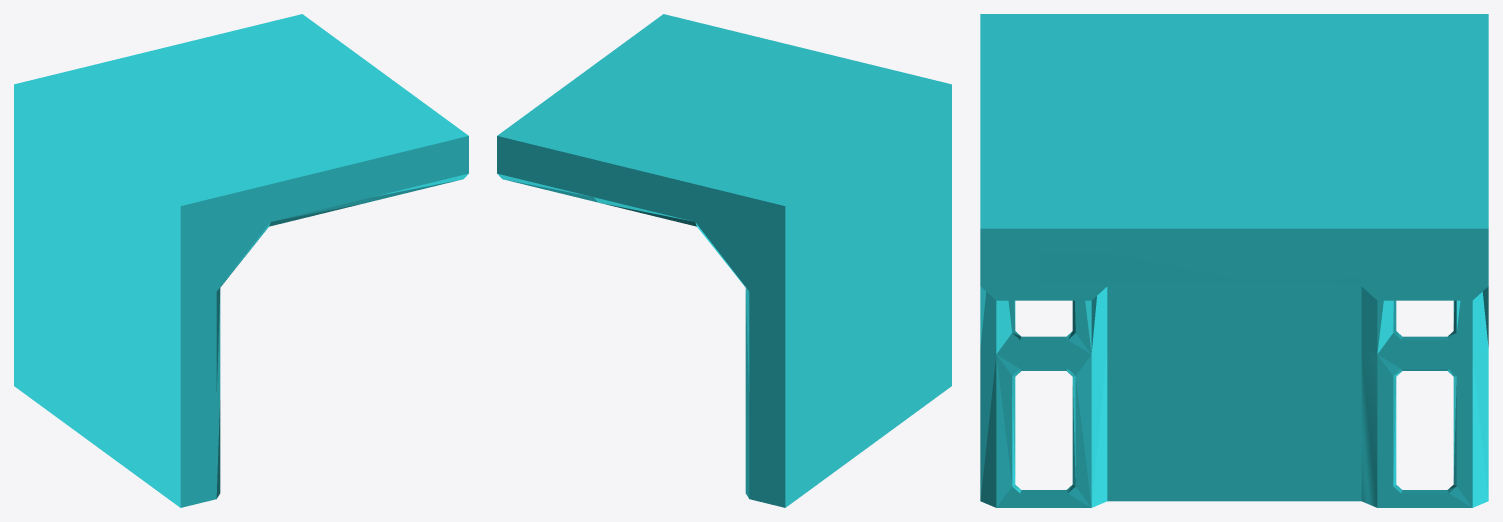
Rendered from uee_stanton_kit_ext_brgsup_8x8x8_01_reg.glb.
3 renders of one model, left to right at view 1: azimuth 30°, elevation 25°; view 2: azimuth 150°, elevation 25°; view 3: azimuth 270°, elevation 25°, orthographic. The views are drawn at different scales.
Size of the model in its own units: 8 by 8 by 8.
